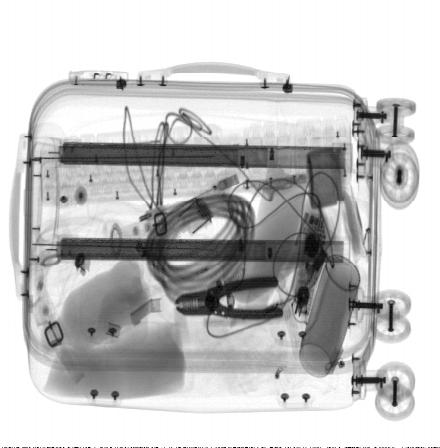Pliers: (176, 274, 283, 318)
